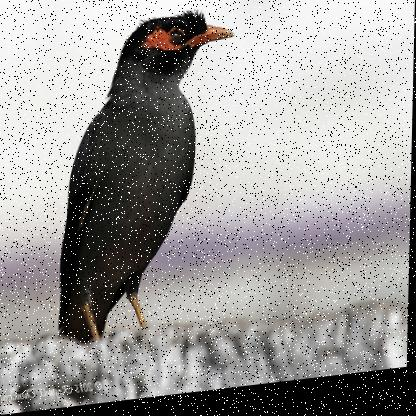Burung: (56, 7, 236, 348)
